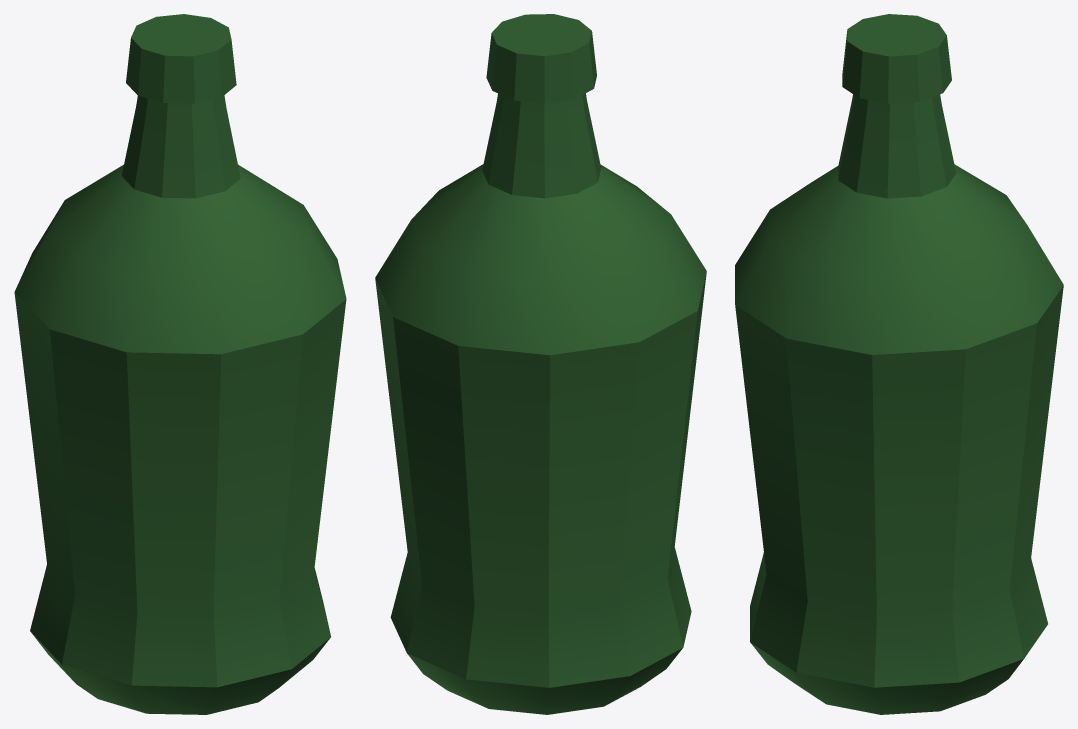
File: 4_greenBottle.fbx
3 renders of one model, left to right at view 1: azimuth 30°, elevation 25°; view 2: azimuth 150°, elevation 25°; view 3: azimuth 270°, elevation 25°, orthographic.
Visible parts, largest first — view 1: Sphere.016; view 2: Sphere.016; view 3: Sphere.016.
Boxes of the visible parts, x1,y1,x2,y2 form: Sphere.016: [14, 14, 346, 714]; Sphere.016: [375, 14, 706, 714]; Sphere.016: [735, 14, 1063, 714].
Bounding box in the file's own units: 121 × 258 × 120.
